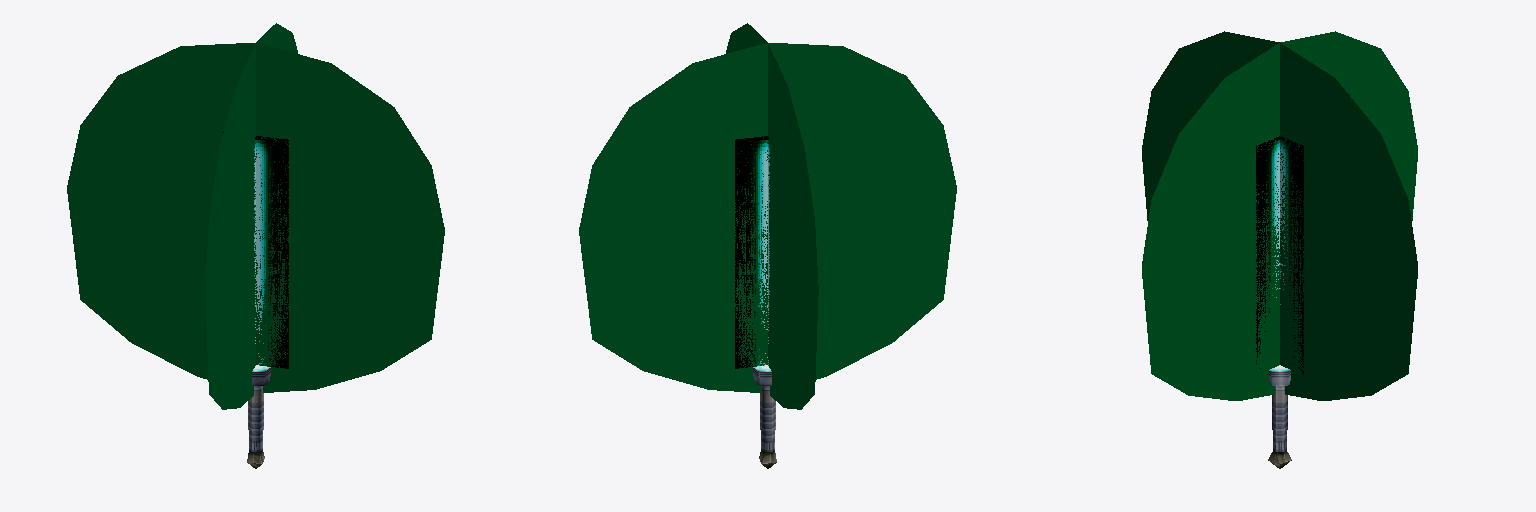
3 renders of one model, left to right at view 1: azimuth 30°, elevation 25°; view 2: azimuth 150°, elevation 25°; view 3: azimuth 270°, elevation 25°, orthographic.
Parts seen in each view (by area): view 1: polygon2, polygon3, polygon0; view 2: polygon2, polygon3, polygon0; view 3: polygon2, polygon3, polygon0.
Part boxes in pixels (x1,y1,x2,y2): polygon2: (67, 23, 444, 409); polygon3: (223, 132, 288, 368); polygon0: (247, 368, 270, 468); polygon2: (579, 23, 956, 409); polygon3: (735, 136, 770, 368); polygon0: (753, 368, 776, 468); polygon2: (1142, 31, 1417, 400); polygon3: (1256, 136, 1303, 374); polygon0: (1268, 371, 1291, 468).
Size of the model in its own units: 12.04 by 20.48 by 12.04.
Materials: 3 (2 with a texture image).